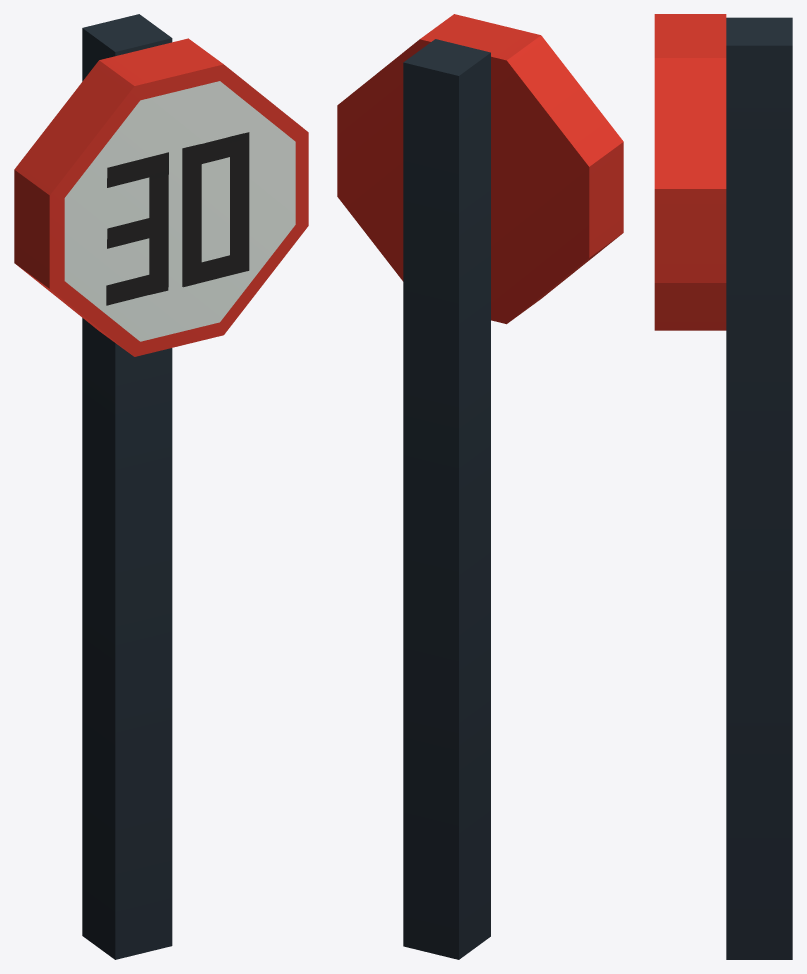
Rendered from Road_sign_max_Speed_30.fbx.
3 renders of one model, left to right at view 1: azimuth 30°, elevation 25°; view 2: azimuth 150°, elevation 25°; view 3: azimuth 270°, elevation 25°, orthographic. The views are drawn at different scales.
Parts seen in each view (by area): view 1: Road_sign_max_Speed_30; view 2: Road_sign_max_Speed_30; view 3: Road_sign_max_Speed_30.
Part boxes in pixels (box(x1,y1,x2,y2)): Road_sign_max_Speed_30: box(14, 14, 308, 959); Road_sign_max_Speed_30: box(337, 14, 623, 959); Road_sign_max_Speed_30: box(654, 14, 792, 959).
Bounding box in the file's own units: 107 × 359 × 49.94.
